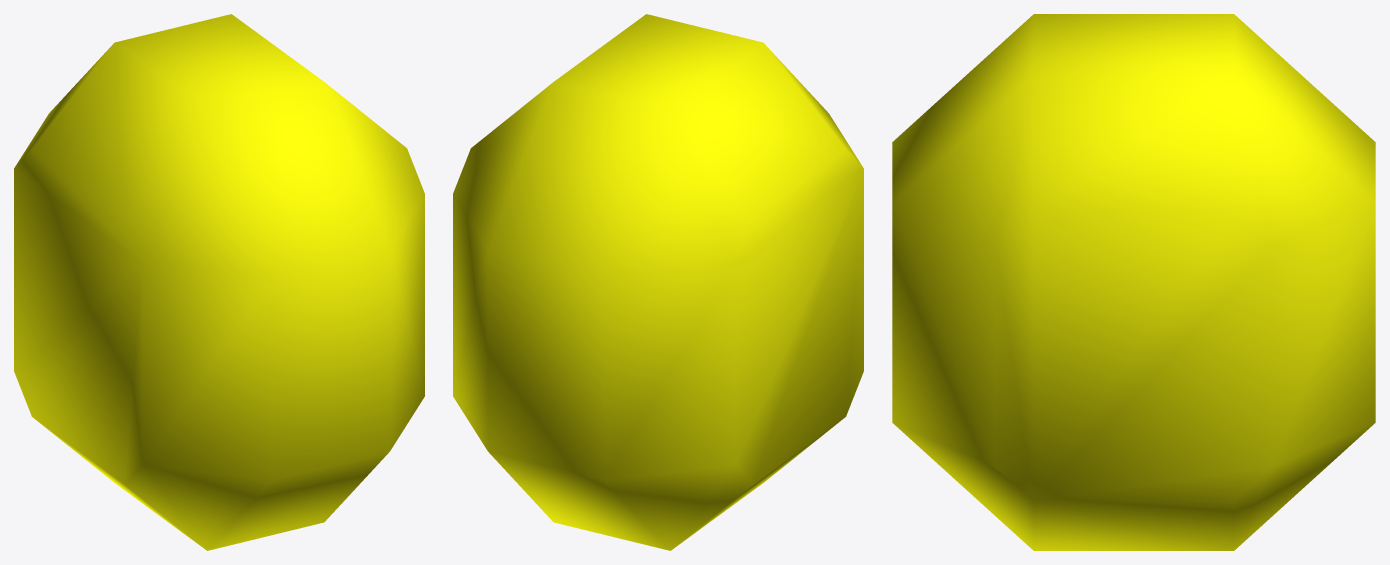
File: Link1.bbox.gltf
3 views of the same model, side by side, from view 1: azimuth 30°, elevation 25°; view 2: azimuth 150°, elevation 25°; view 3: azimuth 270°, elevation 25° (orthographic). The views are drawn at different scales.
Visible parts, largest first — view 1: Link1.bbox; view 2: Link1.bbox; view 3: Link1.bbox.
Part boxes in pixels (x1,y1,x2,y2): Link1.bbox: (14, 14, 424, 550); Link1.bbox: (453, 14, 863, 550); Link1.bbox: (892, 14, 1375, 550).
Size of the model in its own units: 0.089 by 0.1326 by 0.1222.
